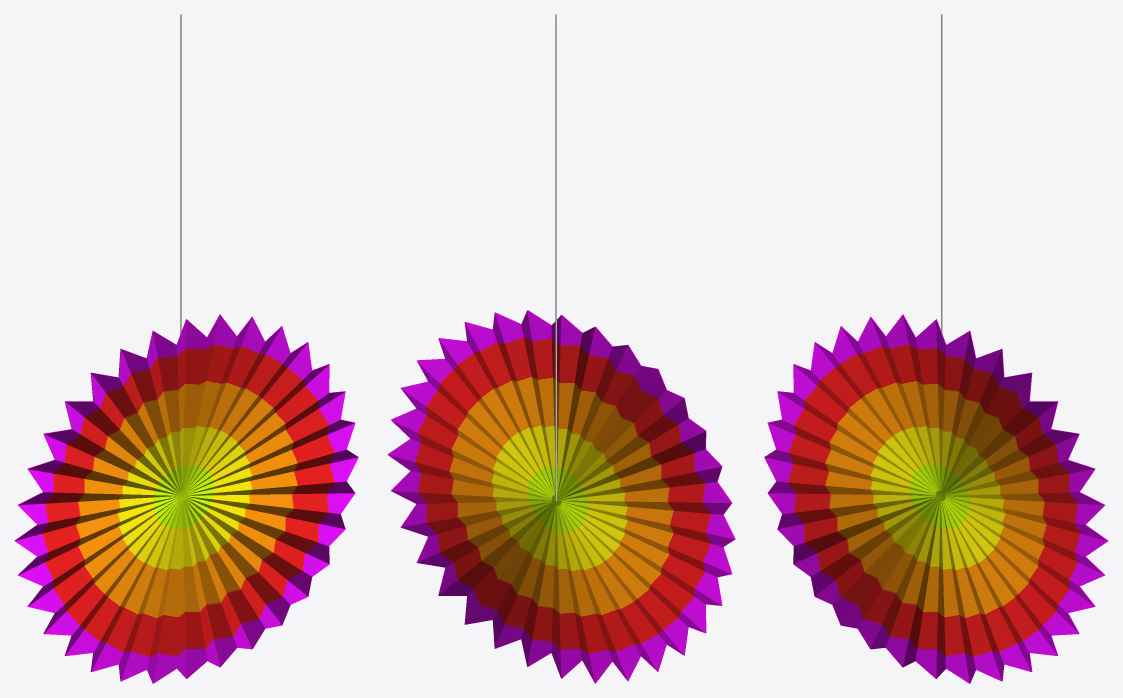
The model's file is PartyHangings01B_3.FBX.
3 renders of one model, left to right at view 1: azimuth 30°, elevation 25°; view 2: azimuth 150°, elevation 25°; view 3: azimuth 330°, elevation 25°, orthographic.
Parts seen in each view (by area): view 1: PartyHangings01B_3; view 2: PartyHangings01B_3; view 3: PartyHangings01B_3.
Boxes of the visible parts, x1,y1,x2,y2 form: PartyHangings01B_3: [14, 14, 358, 683]; PartyHangings01B_3: [387, 14, 735, 683]; PartyHangings01B_3: [764, 14, 1108, 683].
Size of what is drawn, in the model's own units: 0.4575 by 0.8396 by 0.0263.
